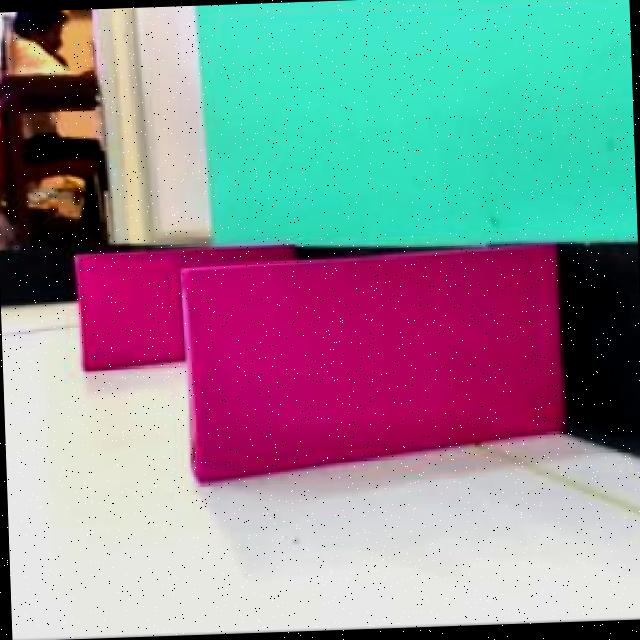xparking: (185, 255, 558, 482), (76, 252, 180, 368)
